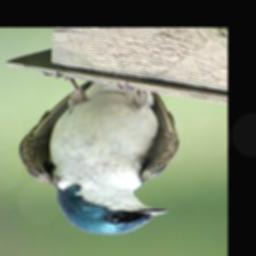Swallow: (18, 69, 181, 237)
